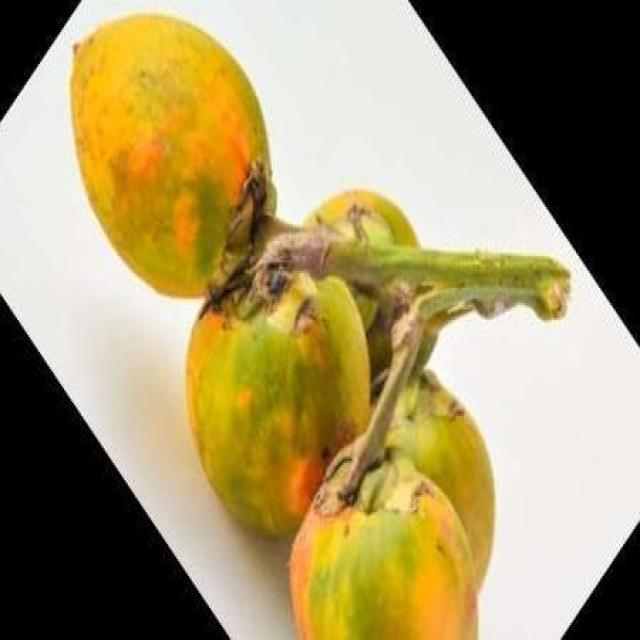good: (185, 226, 404, 542), (70, 15, 273, 301), (309, 375, 496, 638), (289, 465, 486, 638)
